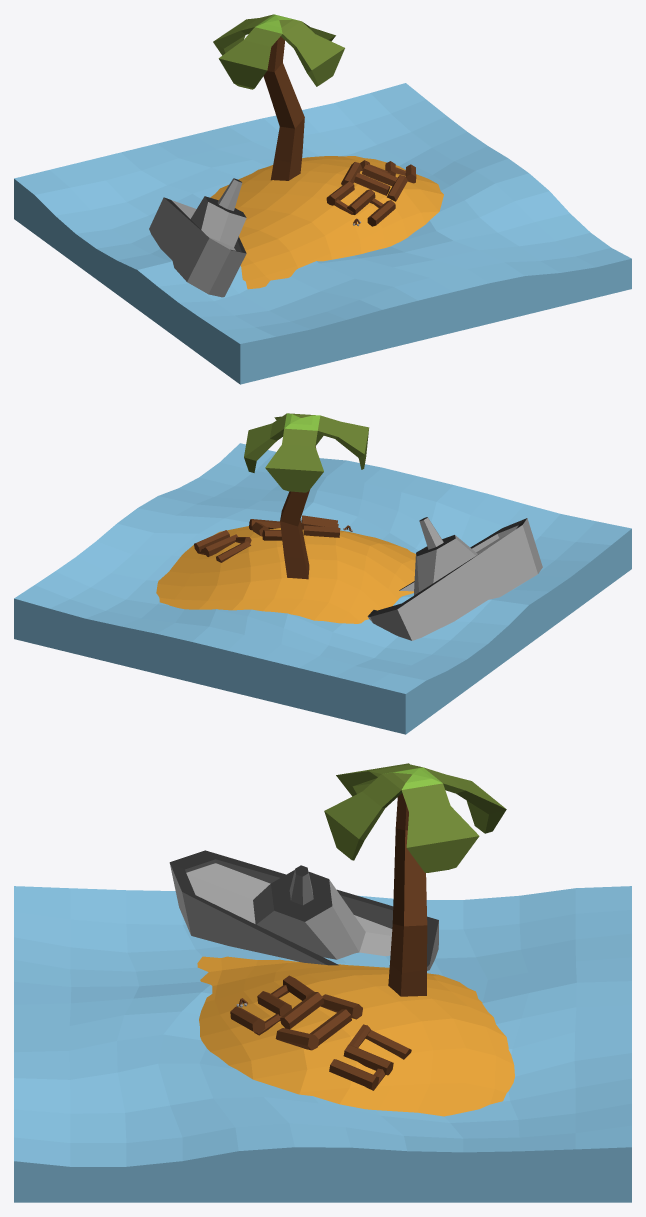
The model's file is Jail.fbx.
3 views of the same model, one above another, from view 1: azimuth 30°, elevation 25°; view 2: azimuth 150°, elevation 25°; view 3: azimuth 270°, elevation 25° (orthographic). The views are drawn at different scales.
Parts seen in each view (by area): view 1: ferias.004; view 2: ferias.004; view 3: ferias.004.
Boxes of the visible parts, x1,y1,x2,y2 form: ferias.004: [14, 14, 631, 384]; ferias.004: [14, 413, 631, 734]; ferias.004: [14, 763, 631, 1202].
Bounding box in the file's own units: 432 × 236 × 432.
